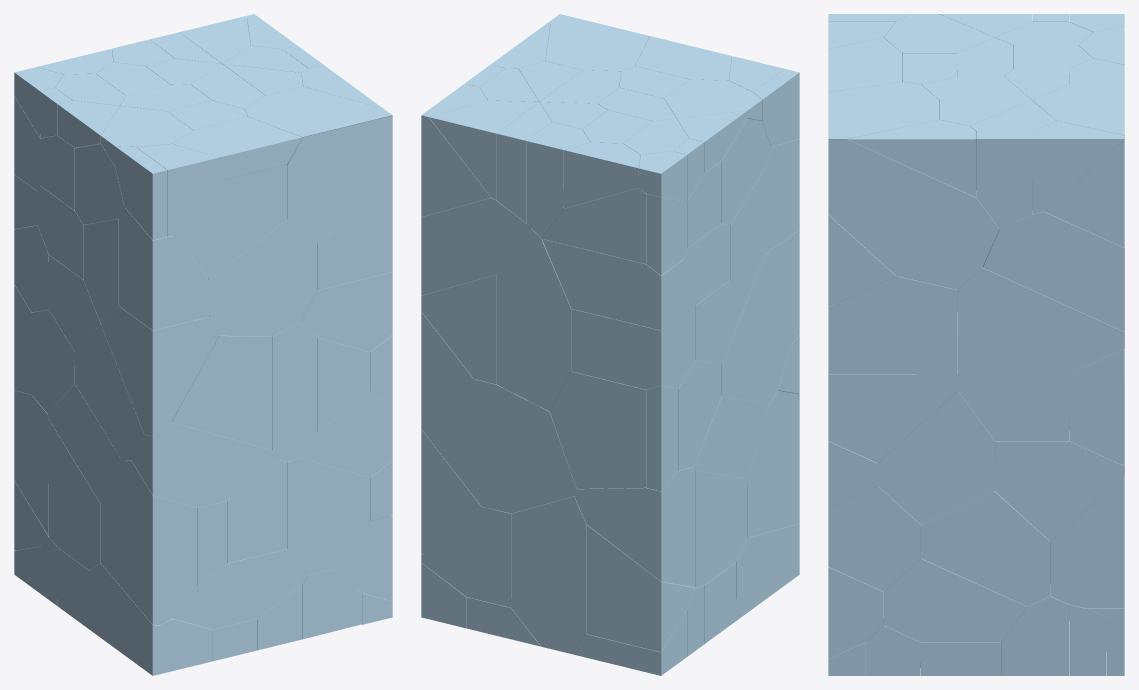
The model's file is white_destroyed.glb.
3 renders of one model, left to right at view 1: azimuth 30°, elevation 25°; view 2: azimuth 150°, elevation 25°; view 3: azimuth 270°, elevation 25°, orthographic. The views are drawn at different scales.
Visible parts, largest first — view 1: Cube_cell.066, Cube_cell.084, Cube_cell.039, Cube_cell.097, Cube_cell.013, Cube_cell.051, Cube_cell.056, Cube_cell.025, Cube_cell.075, Cube_cell.002, Cube_cell.065, Cube_cell.062 (+55 smaller); view 2: Cube_cell.020, Cube_cell.059, Cube_cell.092, Cube_cell.007, Cube_cell.058, Cube_cell.049, Cube_cell.023, Cube_cell.061, Cube_cell.002, Cube_cell.086, Cube_cell.057, Cube_cell.085 (+47 smaller); view 3: Cube_cell.033, Cube_cell.073, Cube_cell.022, Cube_cell.028, Cube_cell.093, Cube_cell.099, Cube_cell.046, Cube_cell.026, Cube_cell.038, Cube_cell, Cube_cell.077, Cube_cell.070 (+33 smaller).
Boxes of the visible parts, left/top/right/bottom form: Cube_cell.066: left=286, top=116, right=392, bottom=242; Cube_cell.084: left=208, top=219, right=317, bottom=336; Cube_cell.039: left=101, top=305, right=218, bottom=436; Cube_cell.097: left=172, top=335, right=272, bottom=450; Cube_cell.013: left=131, top=422, right=279, bottom=507; Cube_cell.051: left=287, top=457, right=369, bottom=574; Cube_cell.056: left=118, top=207, right=208, bottom=330; Cube_cell.025: left=177, top=164, right=287, bottom=279; Cube_cell.075: left=173, top=549, right=307, bottom=629; Cube_cell.002: left=101, top=460, right=152, bottom=624; Cube_cell.065: left=272, top=323, right=317, bottom=462; Cube_cell.062: left=299, top=272, right=392, bottom=351; Cube_cell.020: left=421, top=379, right=576, bottom=513; Cube_cell.059: left=511, top=496, right=586, bottom=653; Cube_cell.092: left=496, top=239, right=571, bottom=411; Cube_cell.007: left=549, top=371, right=646, bottom=488; Cube_cell.058: left=574, top=467, right=695, bottom=587; Cube_cell.049: left=586, top=524, right=695, bottom=651; Cube_cell.023: left=421, top=197, right=541, bottom=295; Cube_cell.061: left=542, top=239, right=684, bottom=330; Cube_cell.002: left=746, top=390, right=799, bottom=537; Cube_cell.086: left=421, top=506, right=511, bottom=607; Cube_cell.057: left=571, top=309, right=660, bottom=389; Cube_cell.085: left=421, top=274, right=496, bottom=384; Cube_cell.033: left=828, top=139, right=999, bottom=289; Cube_cell.073: left=958, top=267, right=1124, bottom=373; Cube_cell.022: left=828, top=276, right=957, bottom=373; Cube_cell.028: left=983, top=211, right=1124, bottom=331; Cube_cell.093: left=878, top=391, right=994, bottom=524; Cube_cell.099: left=921, top=491, right=1050, bottom=606; Cube_cell.046: left=995, top=430, right=1124, bottom=541; Cube_cell.026: left=884, top=528, right=1026, bottom=642; Cube_cell.038: left=828, top=335, right=957, bottom=463; Cube_cell: left=1050, top=475, right=1124, bottom=608; Cube_cell.077: left=828, top=486, right=920, bottom=591; Cube_cell.070: left=958, top=374, right=1068, bottom=440.
Bounding box in the file's own units: 2 × 4 × 2.
